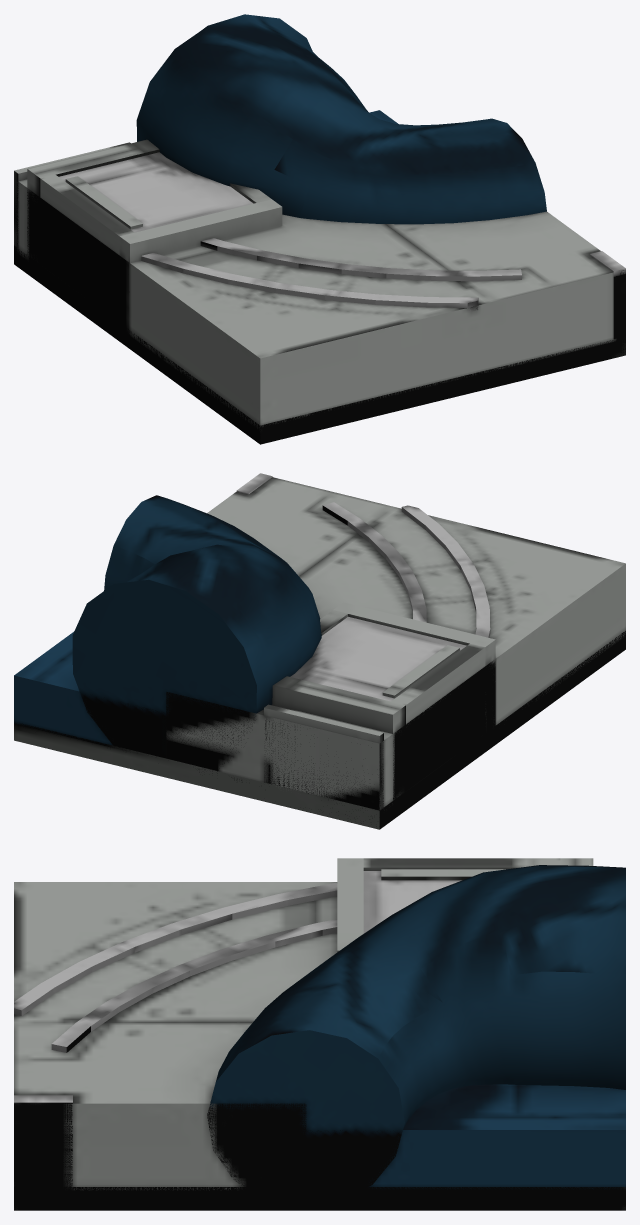
File: newshb-117.glb
3 views of the same model, one above another, from view 1: azimuth 30°, elevation 25°; view 2: azimuth 150°, elevation 25°; view 3: azimuth 270°, elevation 25° (orthographic). The views are drawn at different scales.
Parts seen in each view (by area): view 1: newshb-117, newshb-117-hatch; view 2: newshb-117, newshb-117-hatch; view 3: newshb-117, newshb-117-hatch.
Part boxes in pixels (box(x1,y1,x2,y2)): newshb-117: box(14, 14, 625, 444); newshb-117-hatch: box(59, 152, 253, 232); newshb-117: box(14, 473, 625, 829); newshb-117-hatch: box(290, 616, 466, 701); newshb-117: box(14, 858, 625, 1210); newshb-117-hatch: box(363, 869, 505, 933).
Size of the model in its own units: 2 by 1.01 by 2.33.
Materials: 7 (7 with a texture image).
